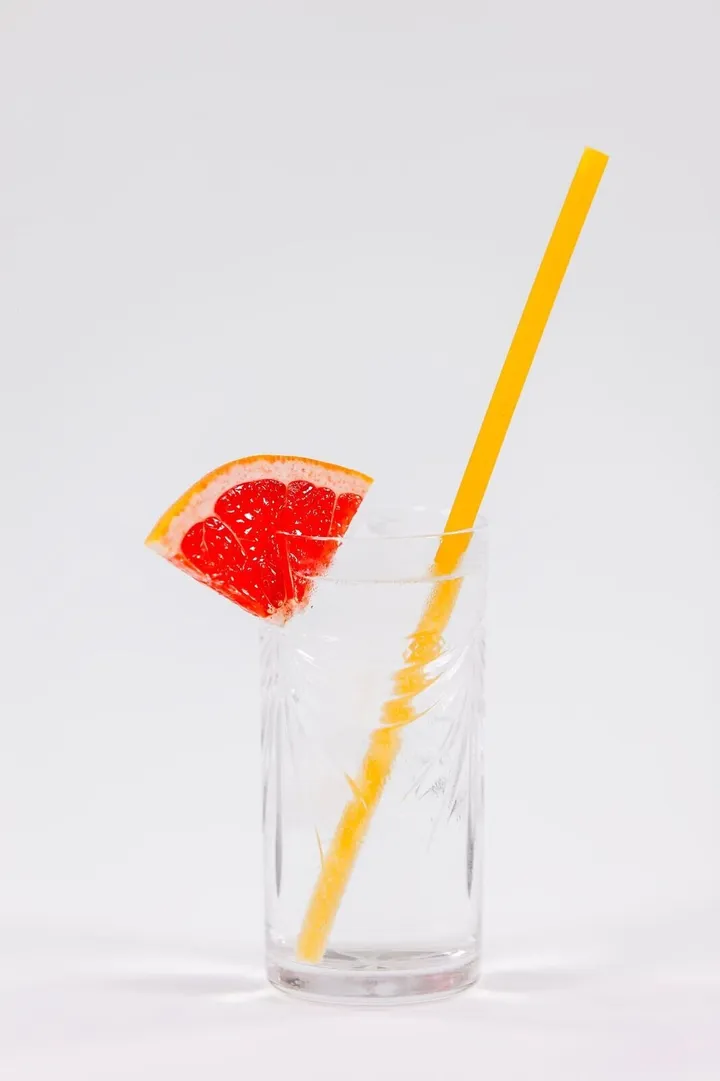Drinking Straw: (288, 141, 617, 973)
